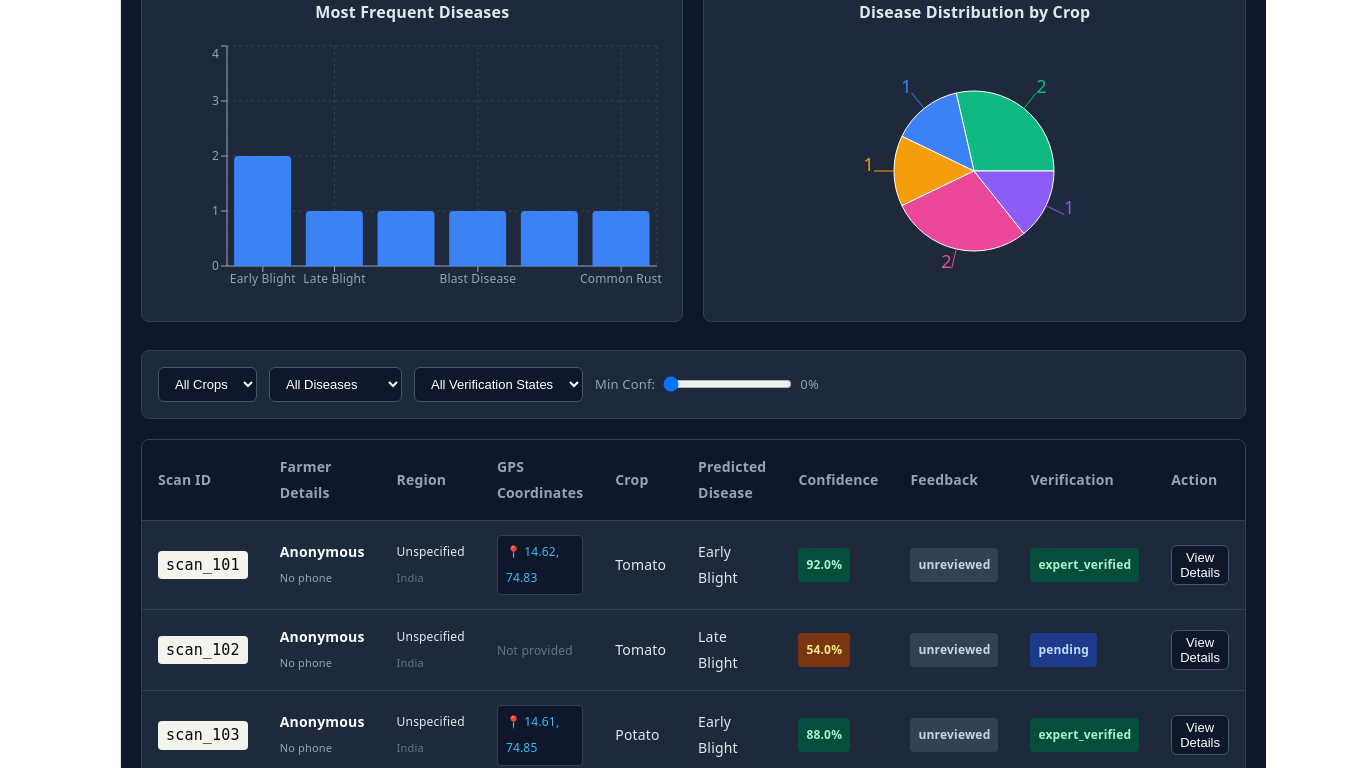
Test: AgroLens Research Dashboard Tests › filters scan records when a crop is selected
(page scrolled)
Select "Tomato" in the 1st dropdown showing "All Crops" at (208, 384), box [158, 367, 257, 402]
(page scrolled)
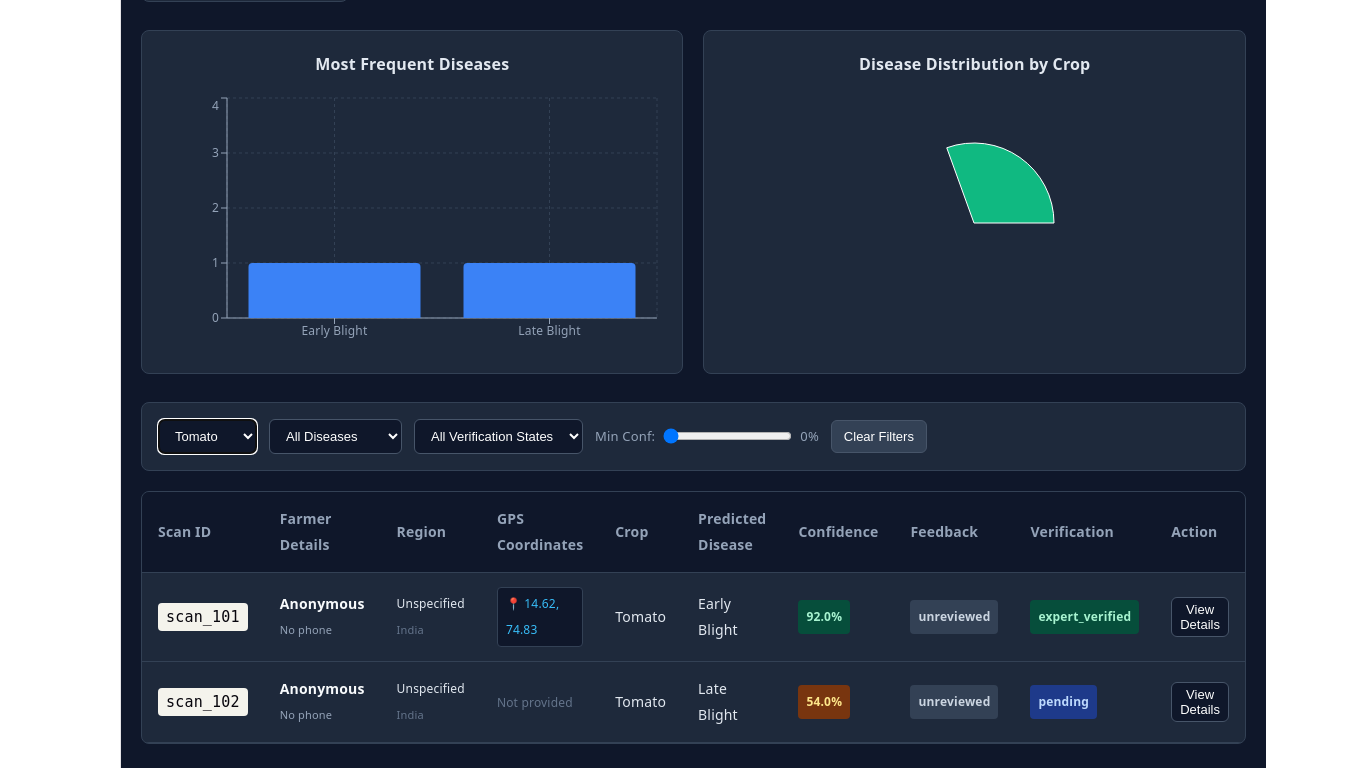
Expected: the text "scan_101" is shown, [158, 603, 248, 631]
Now the text "scan_103" is gone
